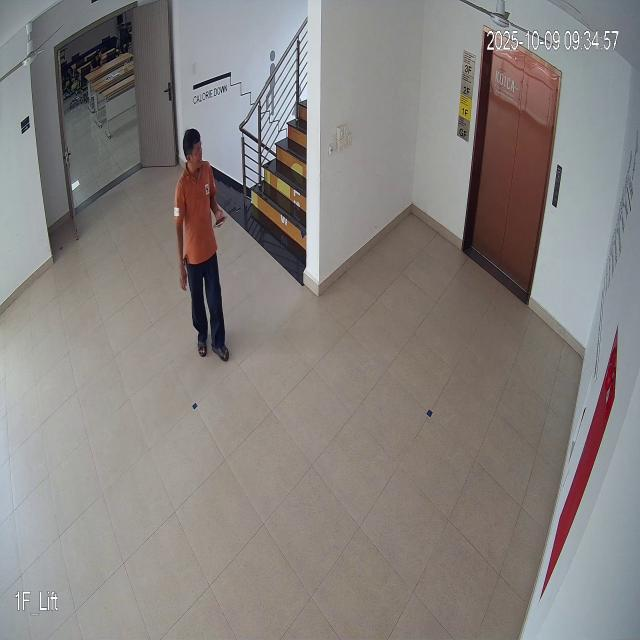face: (177, 119, 204, 178)
